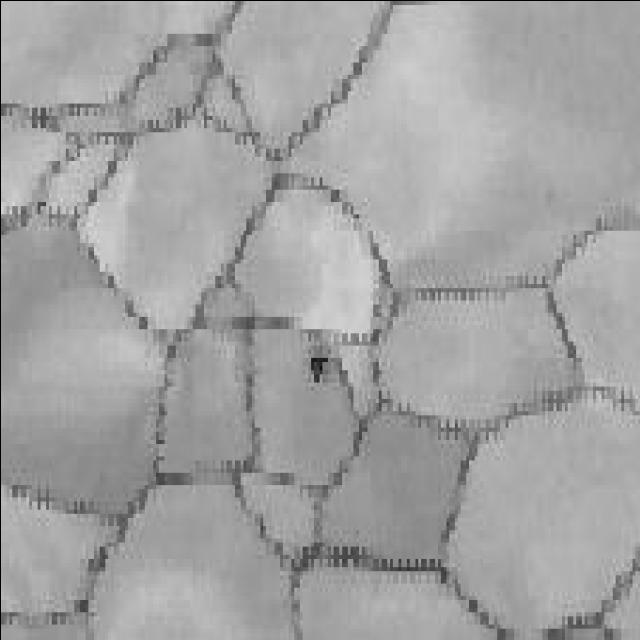good_void: (308, 349, 331, 384)
